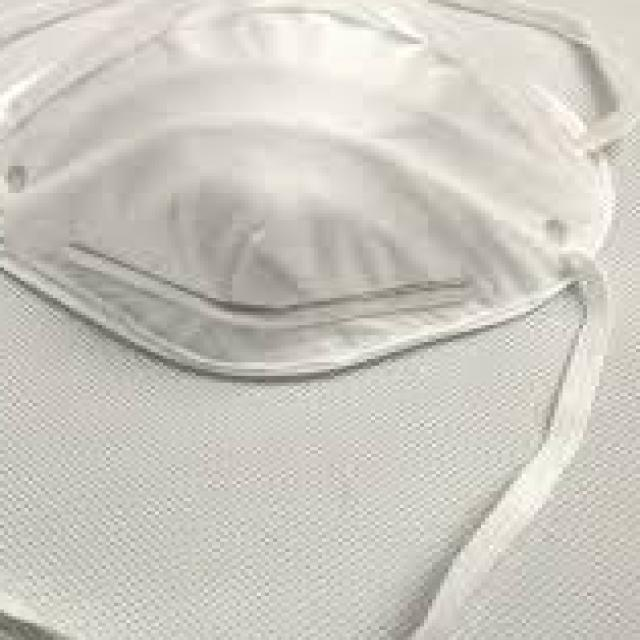organic: (0, 2, 615, 620)
